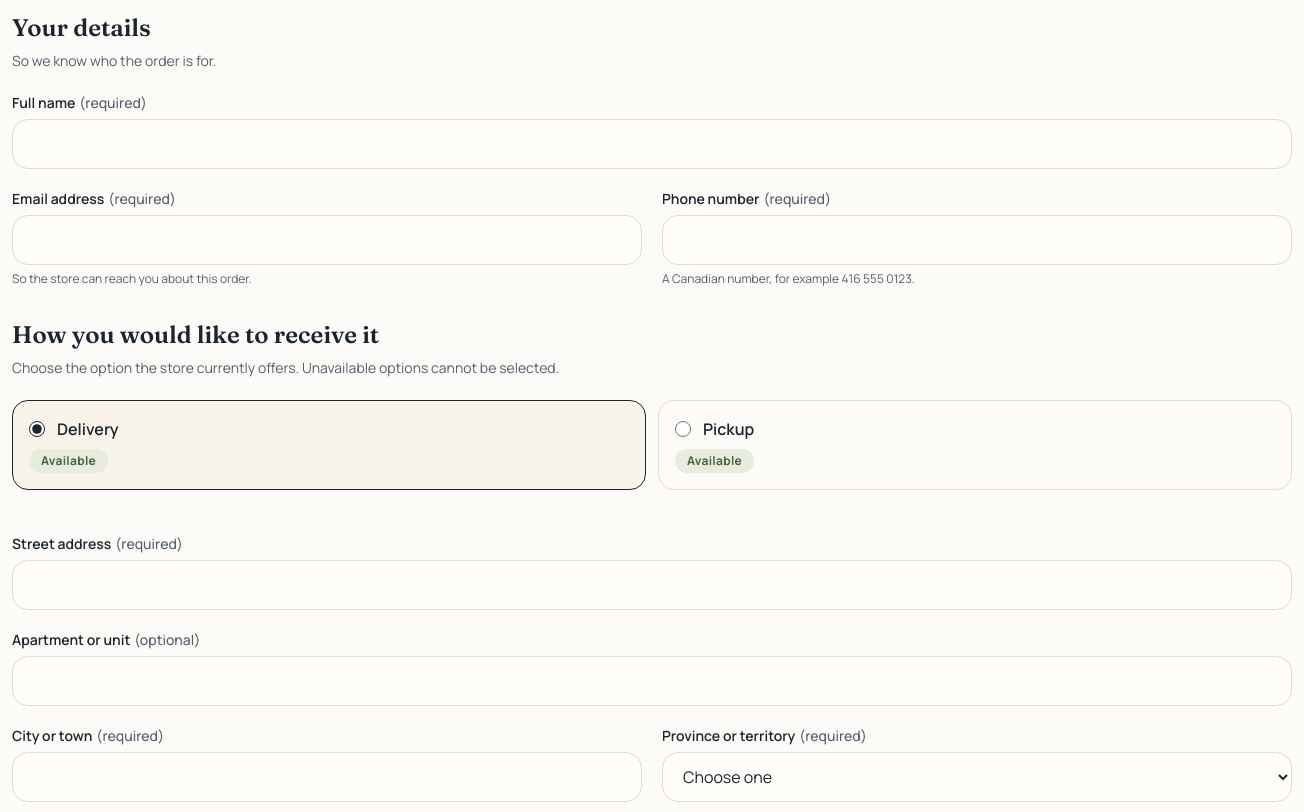
it: CustomerForm: validation › rejects a phone number that is not Canadian
This screenshot has width=1304, height=812.
Step 1. Type "+44 20 7946 0958" into the field labelled "Phone number(required)" → (977, 240), box 662,215 -> 1292,265
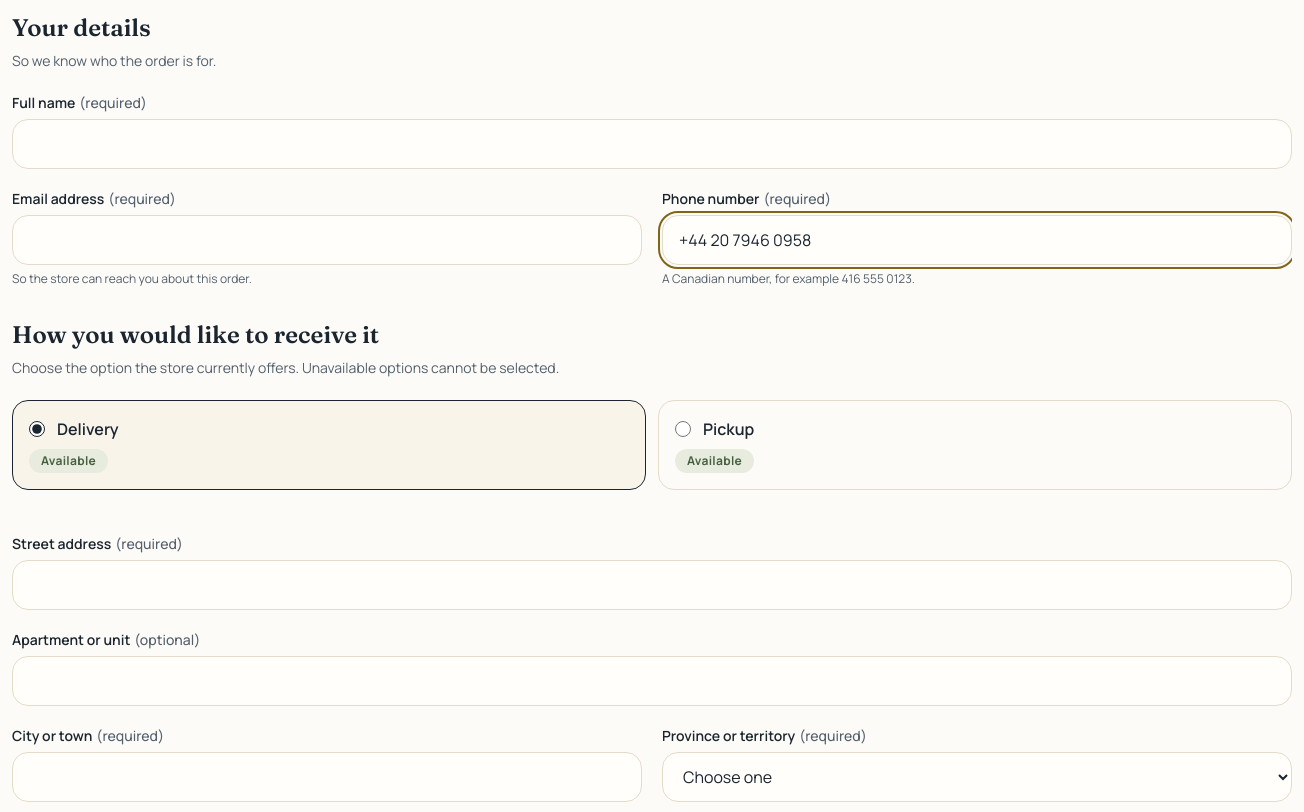
Step 2. Press Tab
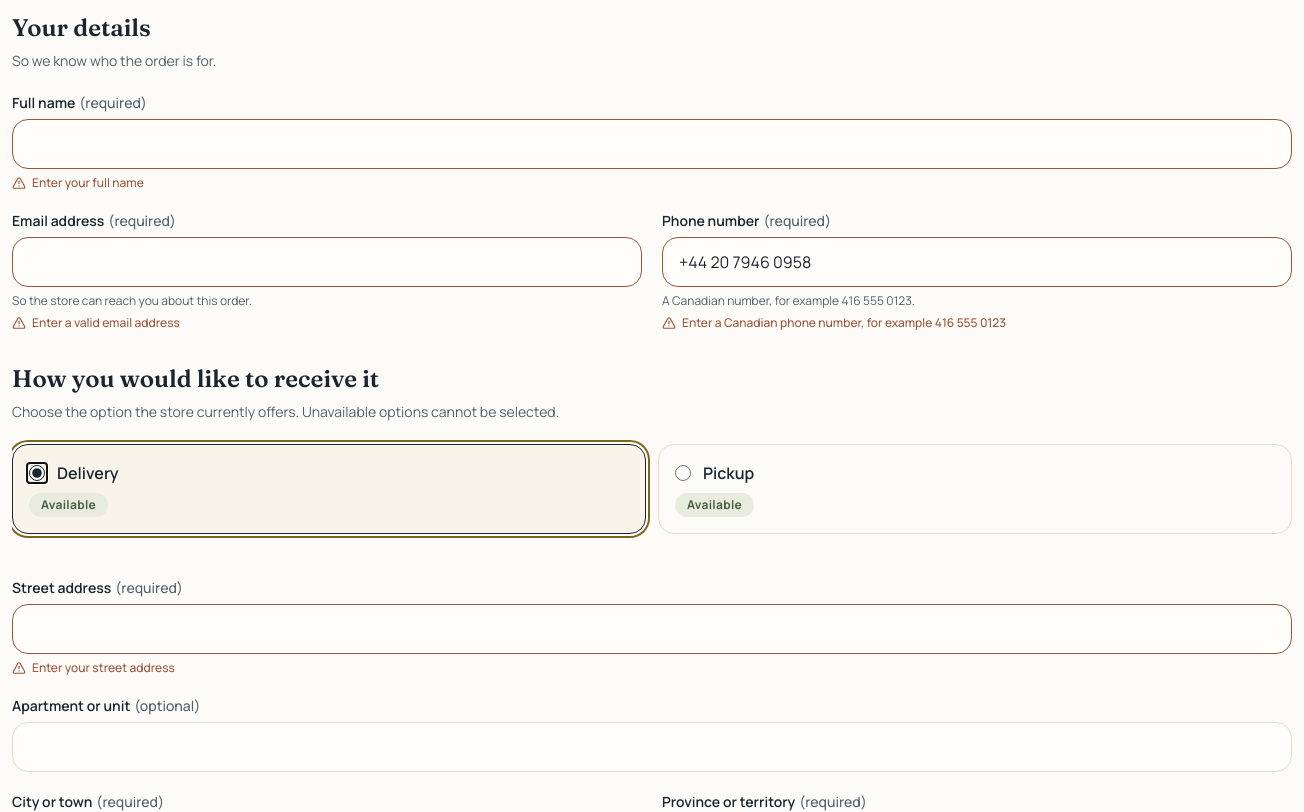
Check: the text "Enter a Canadian phone number, for example 416 555 0123" is shown, box 662,314 -> 1006,331
